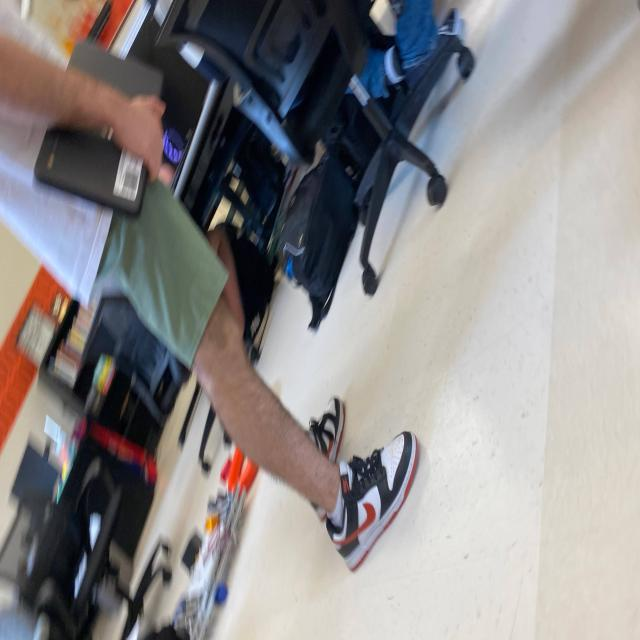blue-specimen: (214, 582, 228, 606)
red-specimen: (220, 455, 232, 485)
yellow-specimen: (206, 513, 219, 536)
